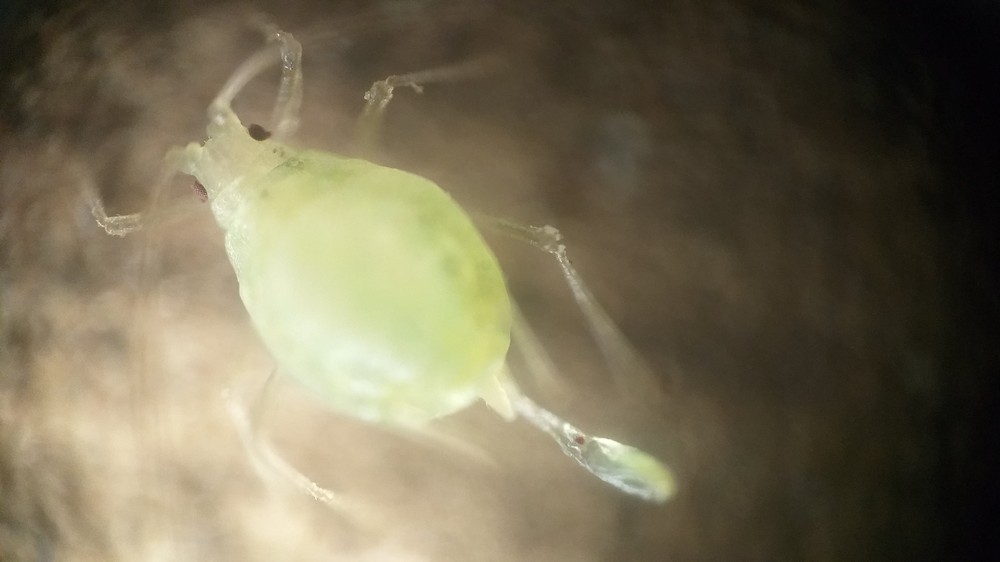Pulgon: (66, 29, 720, 513)
